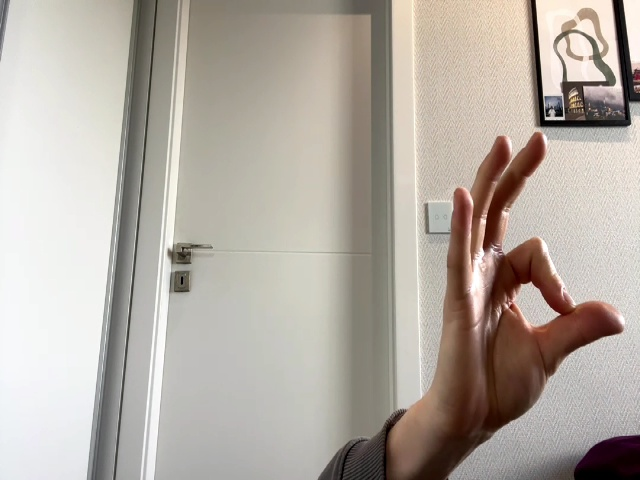S: (443, 130, 627, 431)
